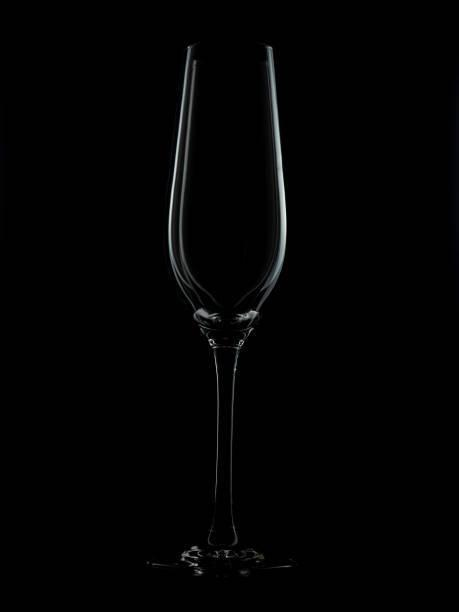glass-wine: (134, 35, 307, 574)
